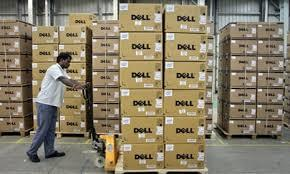Boxes: (119, 1, 161, 32), (120, 32, 163, 61), (119, 89, 163, 117), (120, 61, 163, 89), (164, 33, 206, 61), (120, 117, 163, 144), (164, 6, 206, 33), (165, 63, 207, 90), (164, 90, 205, 117), (164, 118, 205, 144), (121, 145, 165, 168), (165, 145, 205, 168)
